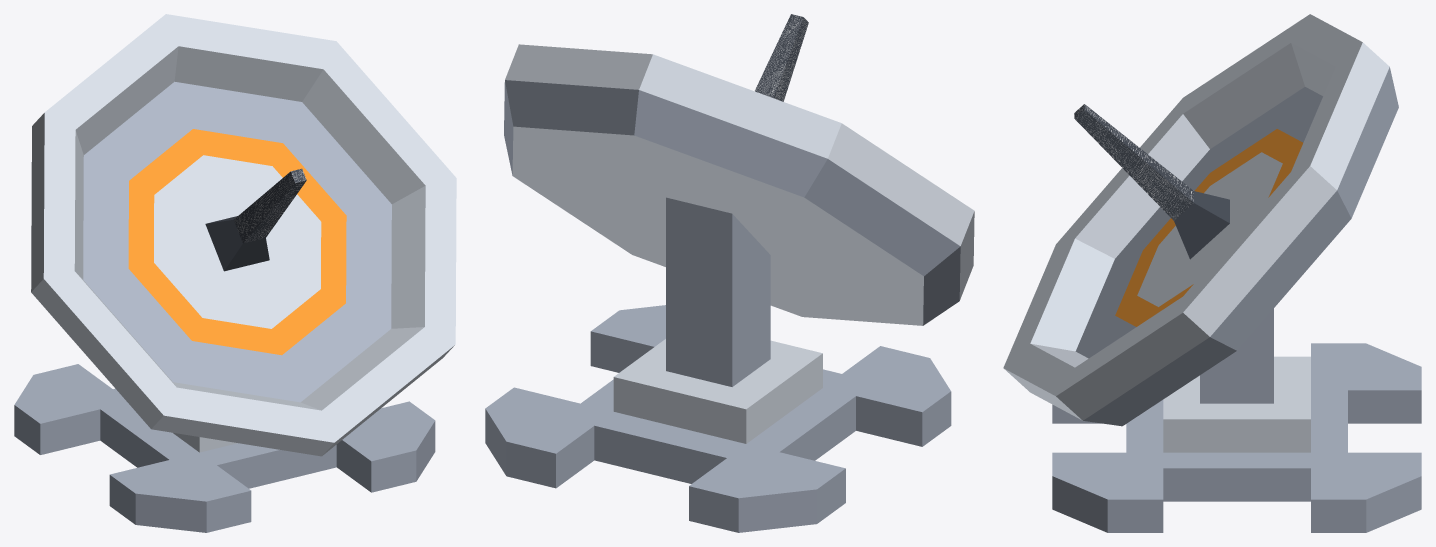
The model's file is satelliteDish.obj.
The picture shows the model from 3 angles, left to right: view 1: azimuth 30°, elevation 25°; view 2: azimuth 150°, elevation 25°; view 3: azimuth 270°, elevation 25°; orthographic projection. The views are drawn at different scales.
Parts seen in each view (by area): view 1: satelliteDish; view 2: satelliteDish; view 3: satelliteDish.
Part boxes in pixels (bbox=[...]): satelliteDish: bbox=[14, 14, 456, 532]; satelliteDish: bbox=[485, 14, 974, 532]; satelliteDish: bbox=[1003, 14, 1421, 532].
Bounding box in the file's own units: 0.6884 × 0.6165 × 0.5665.
